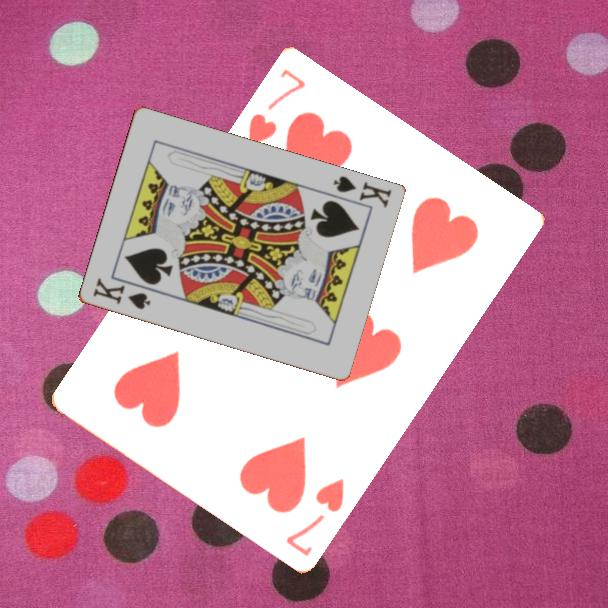h07: (244, 64, 309, 149), (282, 474, 347, 559)
s13: (329, 172, 394, 211), (89, 274, 153, 313)
